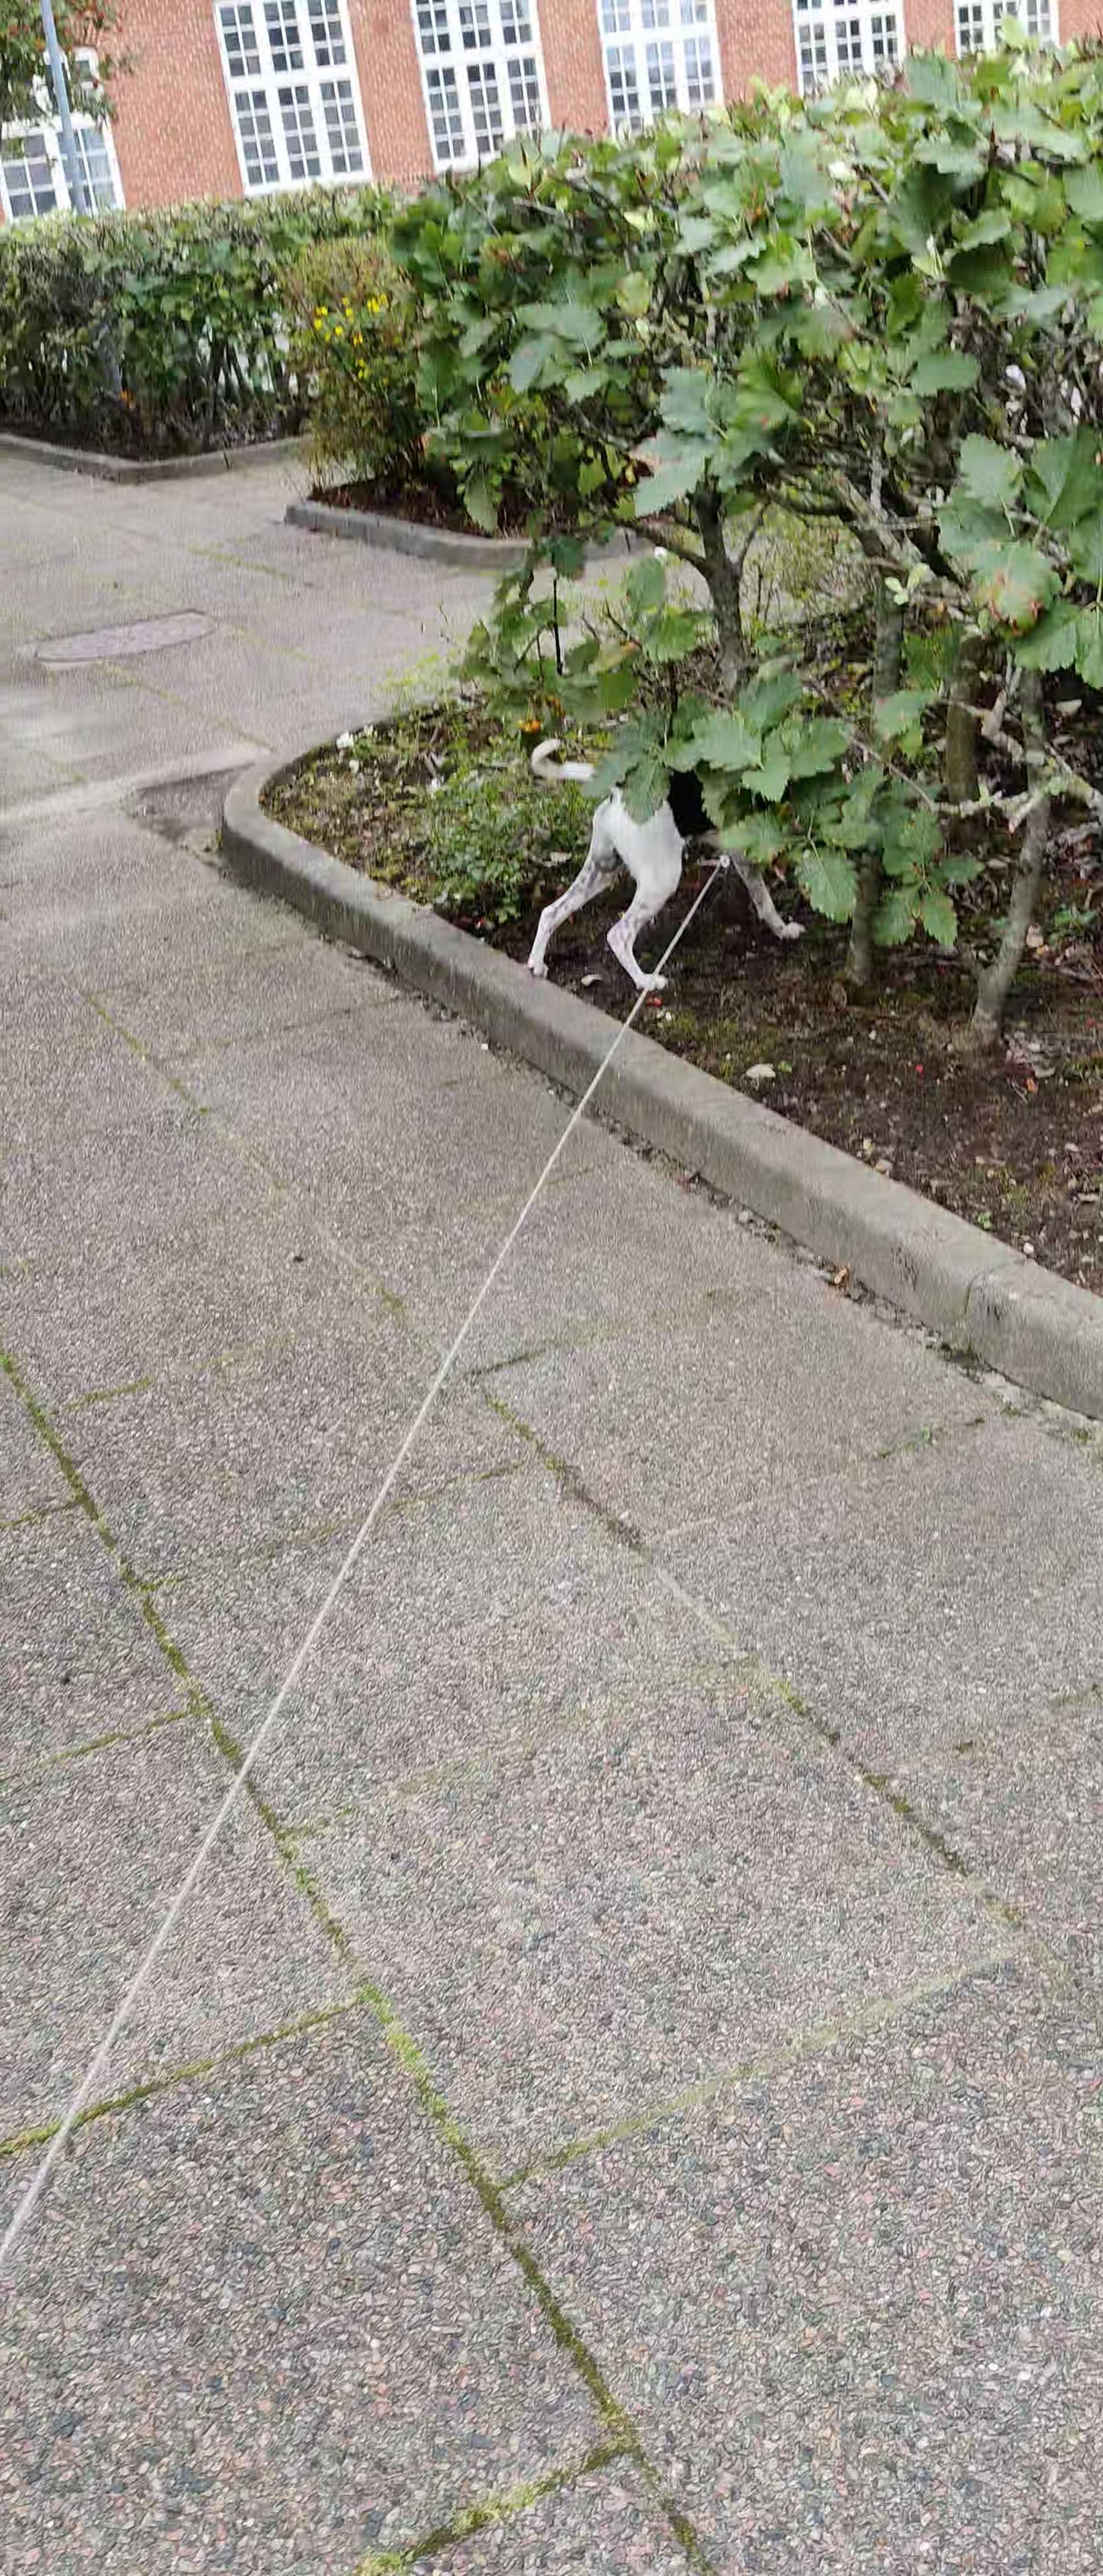Dog: (516, 713, 832, 1000)
